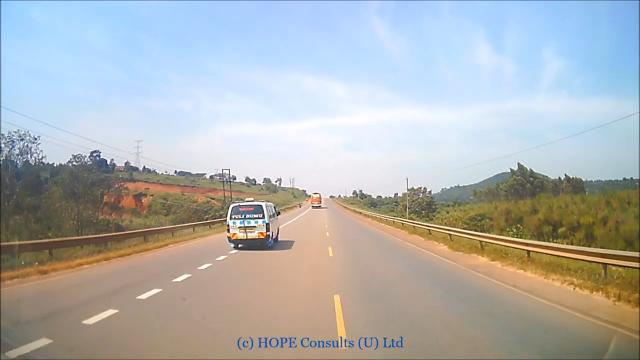van: (223, 201, 285, 244)
